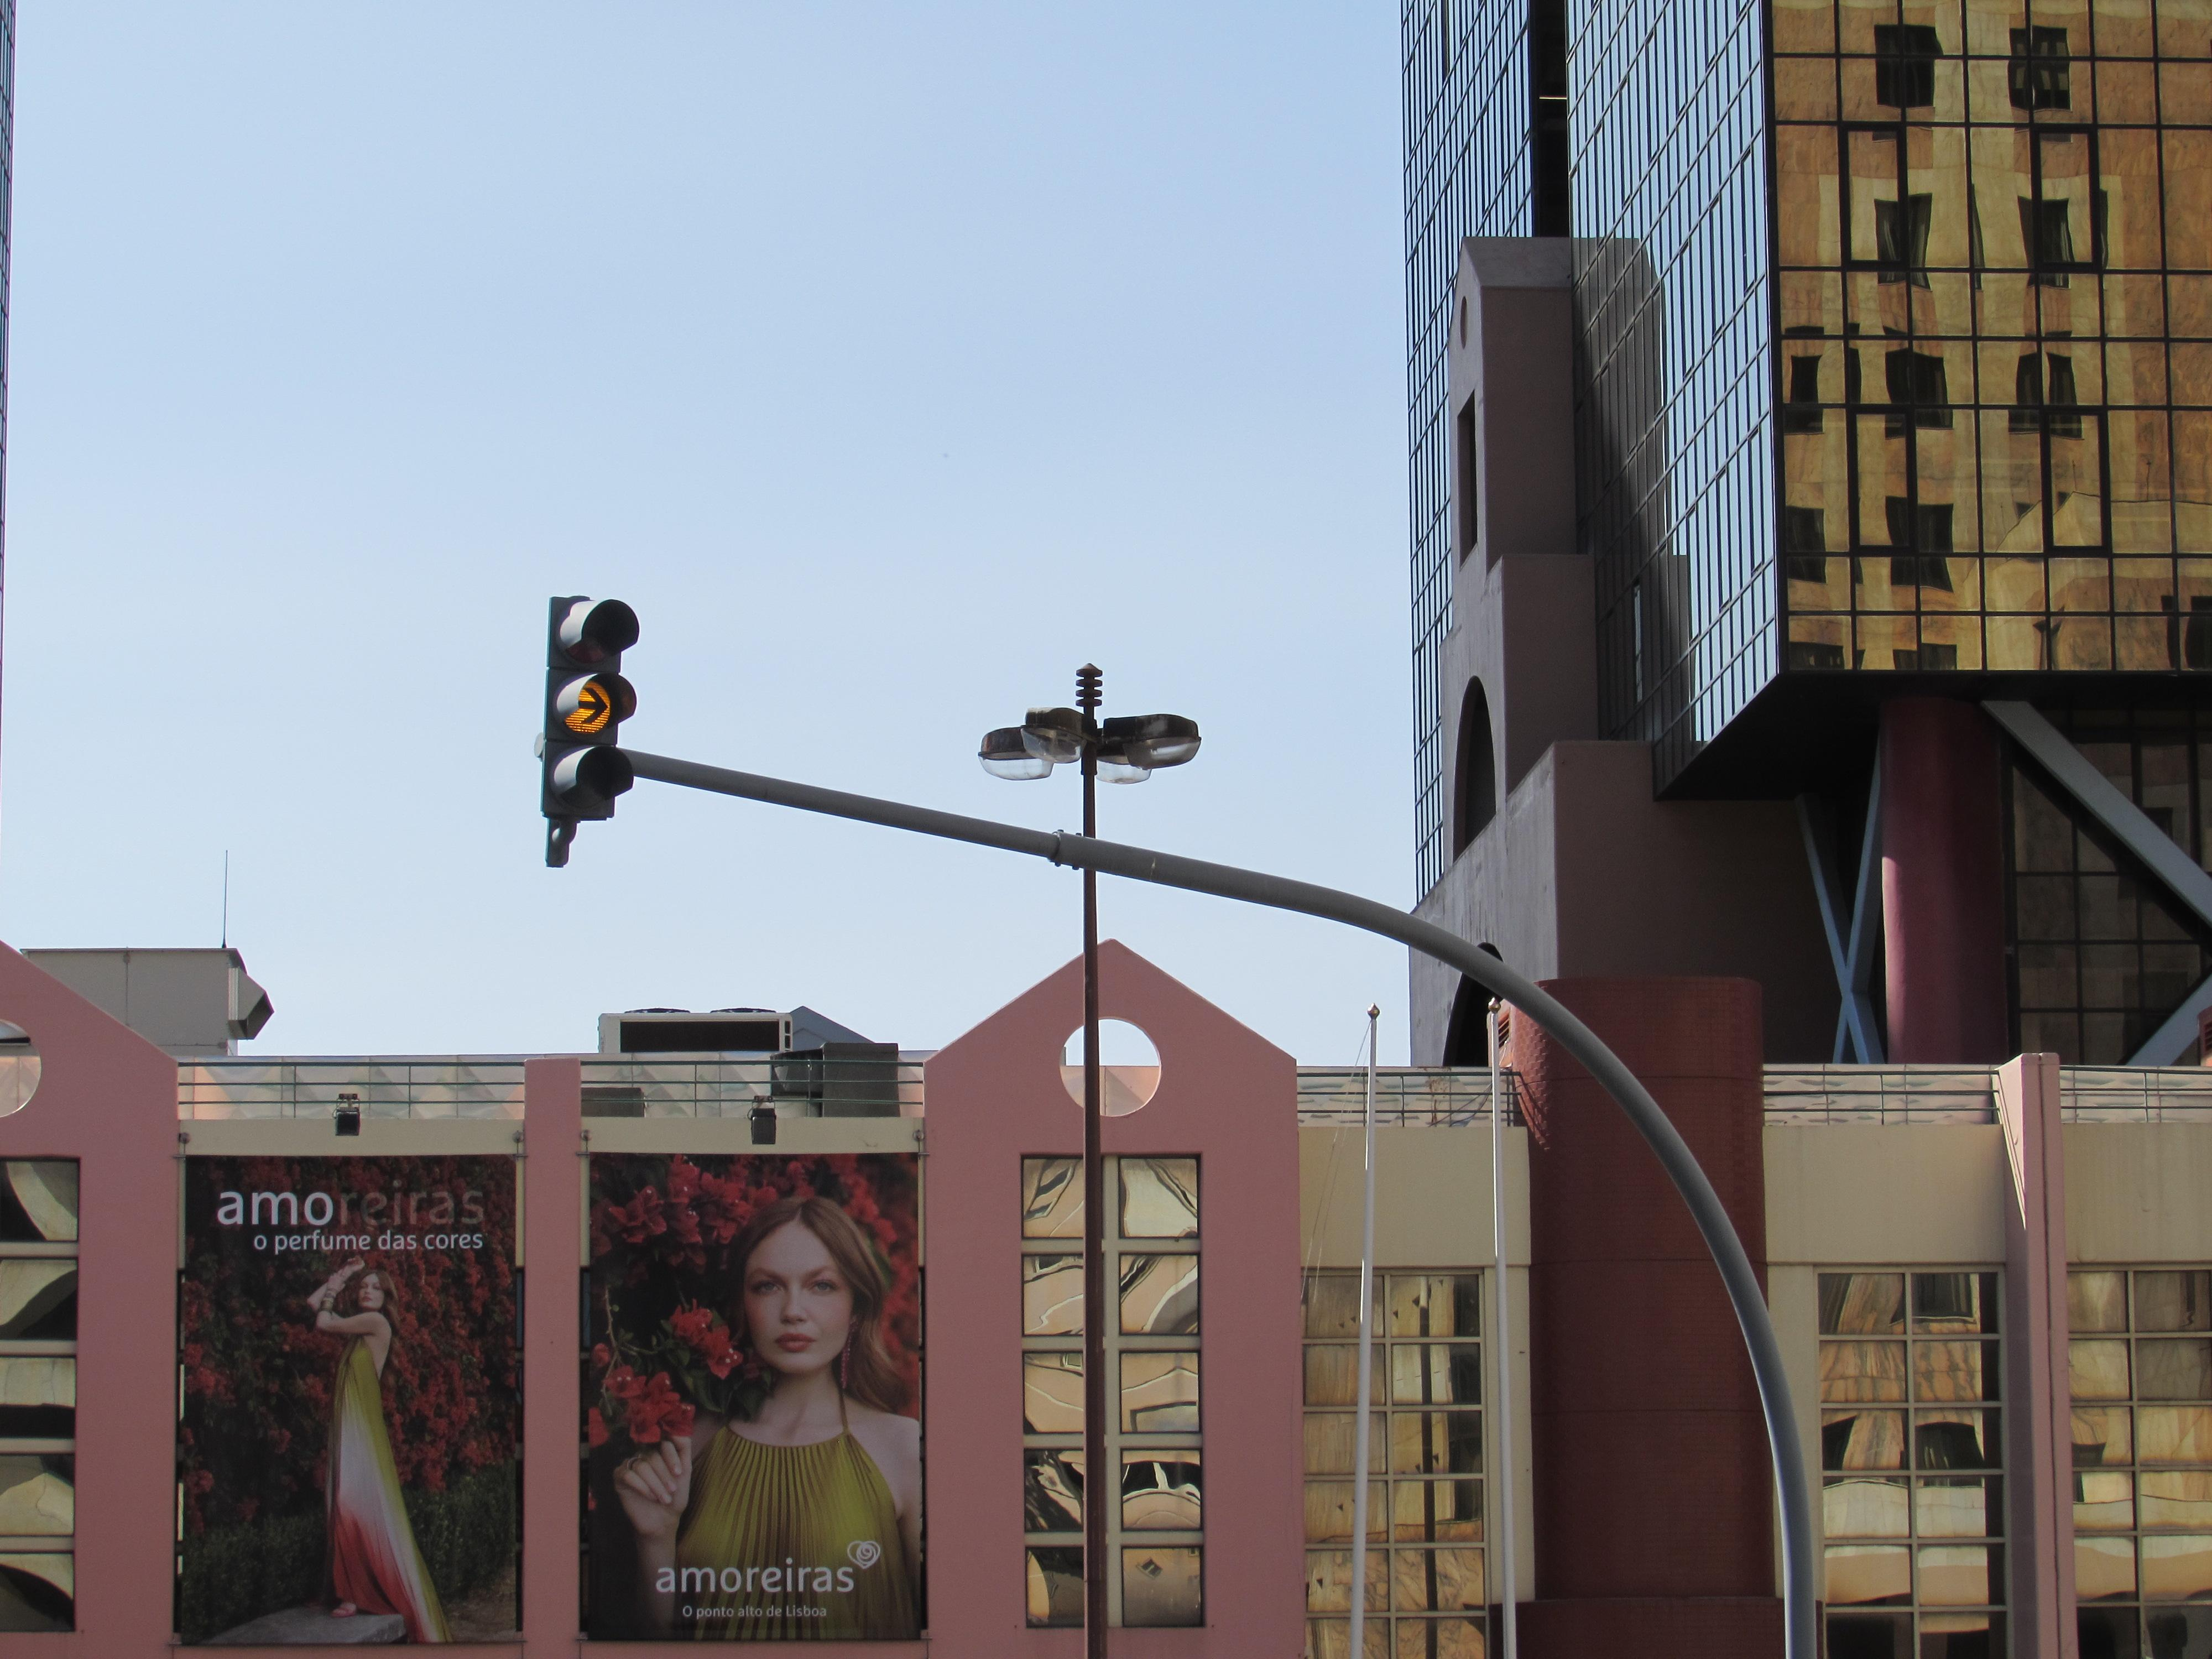yellow_light: (542, 598, 639, 823)
